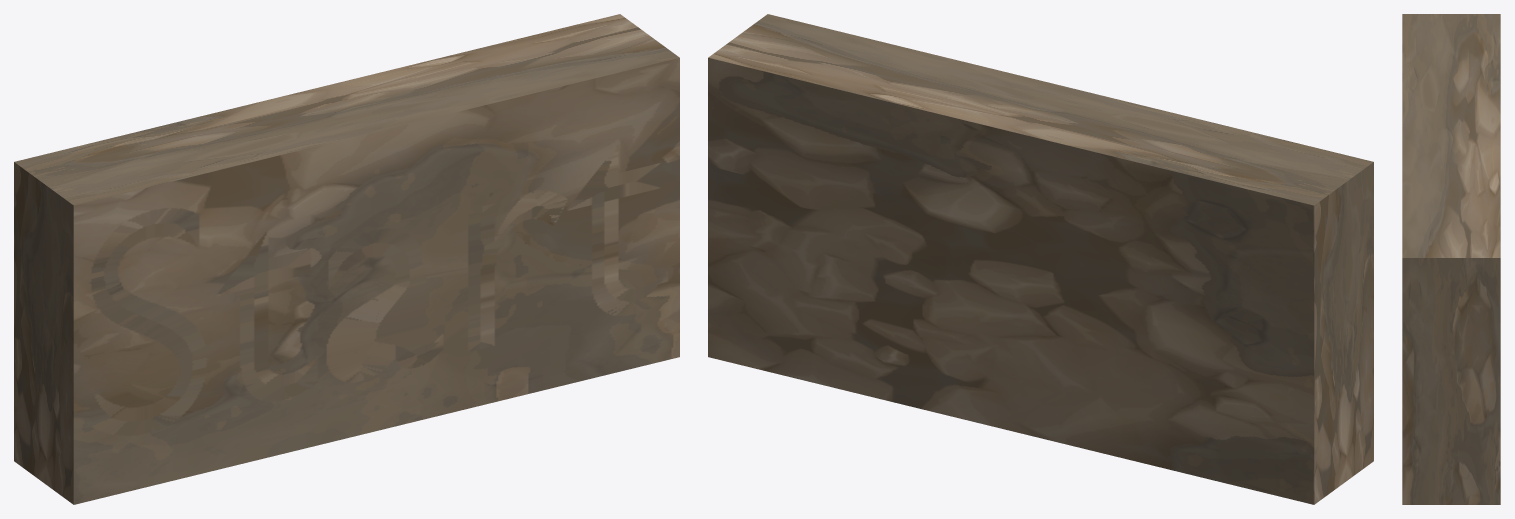
File: Start (Unbroken).fbx
3 renders of one model, left to right at view 1: azimuth 30°, elevation 25°; view 2: azimuth 150°, elevation 25°; view 3: azimuth 270°, elevation 25°, orthographic. The views are drawn at different scales.
Visible parts, largest first — view 1: Cube; view 2: Cube; view 3: Cube.
Part boxes in pixels (x1=…): Cube: x1=14, y1=14, x2=679, y2=504; Cube: x1=708, y1=14, x2=1373, y2=504; Cube: x1=1402, y1=14, x2=1500, y2=504.
Size of the model in its own units: 200 by 94.4 by 34.14.
